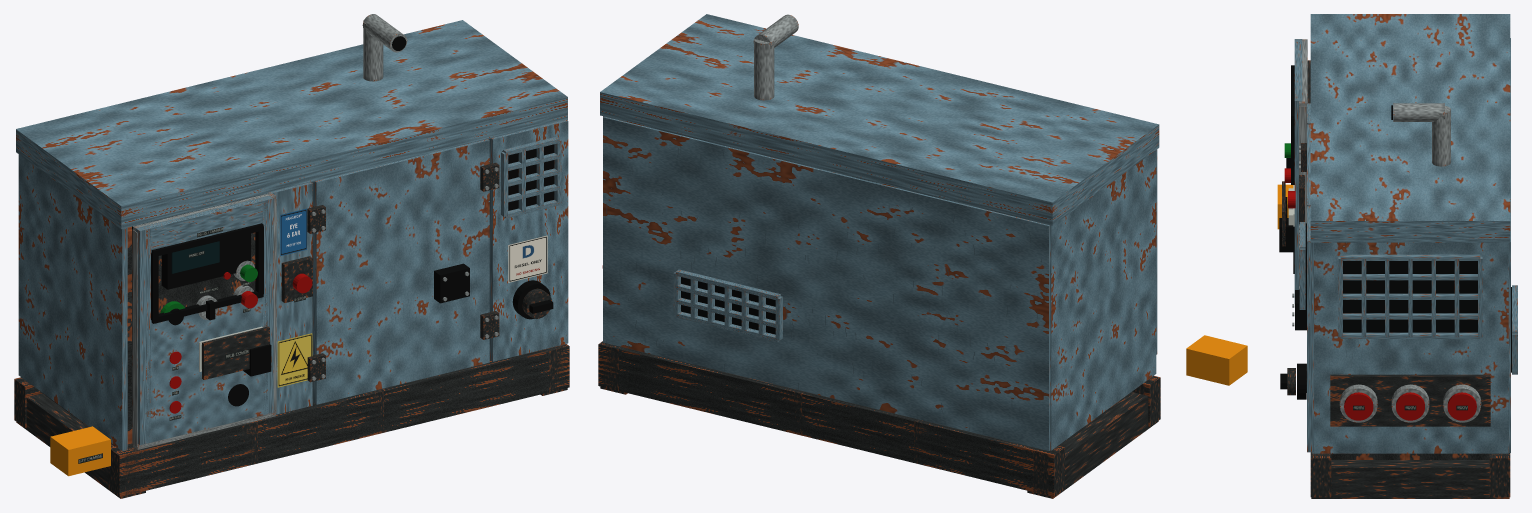
The model's file is Generator_Closed.obj.
3 views of the same model, side by side, from view 1: azimuth 30°, elevation 25°; view 2: azimuth 150°, elevation 25°; view 3: azimuth 270°, elevation 25° (orthographic). The views are drawn at different scales.
Visible parts, largest first — view 1: Roof, FrontPanel0.36, LeftSide, SkidRail0.52, FrontPanel1.17, DoorBottom, FrontPanel-0.35, DoorLeft, DoorTop, ChargerBase, SkidFoot-1.34, DisplayBezel (+20 smaller); view 2: RearPanel, Roof, LeftSide, SkidRail-0.52, SkidFoot-1.34, ChargerBase, RearVentInside, ExhaustUpright, ExhaustElbow, RearVentH3, SkidCross-0.52-1.35; view 3: Roof, RightSide, SideVentInside, SkidFoot1.34, SocketPlate, FrontPanel1.17, InnerEngine, ExhaustUpright, DoorRight, ExhaustElbow, SkidRail0.52, SkidRail-0.52 (+30 smaller).
Part boxes in pixels (bbox=[...]): Roof: bbox=[16, 20, 567, 229]; FrontPanel0.36: bbox=[313, 139, 489, 404]; LeftSide: bbox=[18, 154, 127, 450]; SkidRail0.52: bbox=[108, 344, 569, 496]; FrontPanel1.17: bbox=[489, 120, 568, 361]; DoorBottom: bbox=[145, 295, 267, 443]; FrontPanel-0.35: bbox=[268, 182, 312, 414]; DoorLeft: bbox=[135, 226, 150, 445]; DoorTop: bbox=[142, 198, 267, 252]; ChargerBase: bbox=[50, 426, 110, 476]; SkidFoot-1.34: bbox=[16, 393, 145, 498]; DisplayBezel: bbox=[161, 233, 250, 289]; RearPanel: bbox=[603, 116, 1050, 450]; Roof: bbox=[600, 14, 1159, 225]; LeftSide: bbox=[1050, 150, 1156, 450]; SkidRail-0.52: bbox=[598, 341, 1064, 496]; SkidFoot-1.34: bbox=[1027, 392, 1158, 498]; ChargerBase: bbox=[1186, 335, 1247, 385]; RearVentInside: bbox=[681, 277, 775, 334]; ExhaustUpright: bbox=[754, 39, 774, 100]; ExhaustElbow: bbox=[753, 14, 798, 48]; RearVentH3: bbox=[675, 269, 780, 299]; SkidCross-0.52-1.35: bbox=[1033, 446, 1059, 495]; Roof: bbox=[1310, 14, 1510, 242]; RightSide: bbox=[1312, 242, 1508, 453]; SideVentInside: bbox=[1343, 261, 1477, 332]; SkidFoot1.34: bbox=[1311, 460, 1509, 498]; SocketPlate: bbox=[1330, 374, 1490, 426]; FrontPanel1.17: bbox=[1307, 206, 1313, 452]; InnerEngine: bbox=[1331, 453, 1489, 459]; ExhaustUpright: bbox=[1432, 106, 1450, 166]; DoorRight: bbox=[1294, 98, 1302, 303]; ExhaustElbow: bbox=[1393, 103, 1444, 121]; SkidRail0.52: bbox=[1310, 452, 1331, 497]; SkidRail-0.52: bbox=[1489, 453, 1510, 497].
Bounding box in the file's own units: 3.38 × 2.15 × 1.4.
29 materials, 23 textured.
